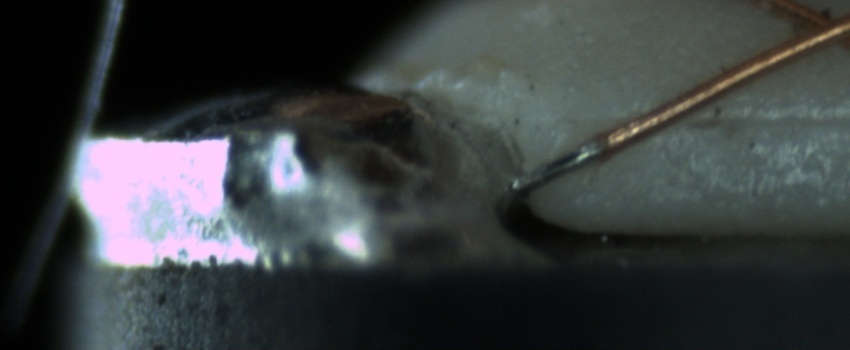CL: (770, 1, 849, 61)
DL: (671, 87, 849, 148)
TS: (504, 138, 606, 195)
TTCW: (505, 121, 639, 194)
